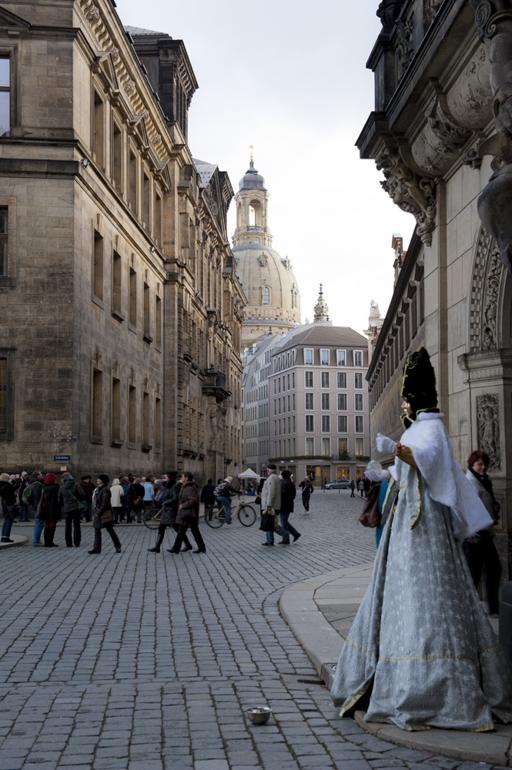non-vehicle: (202, 488, 257, 530), (142, 506, 162, 531)
